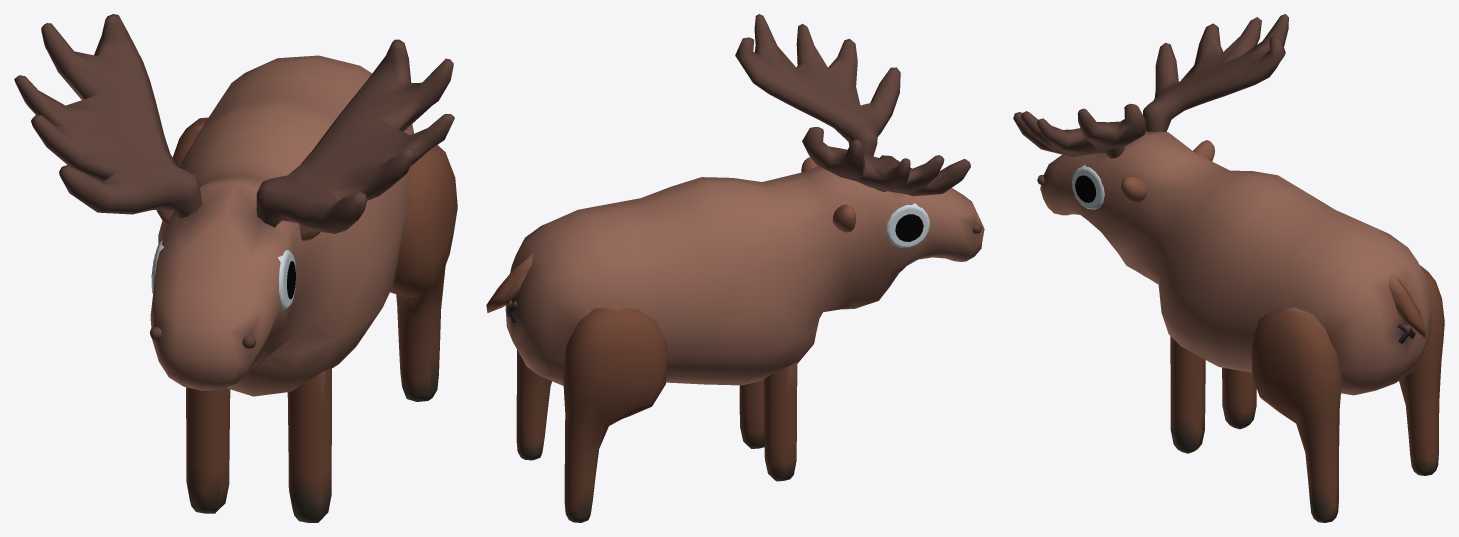
File: Moose.glb
3 renders of one model, left to right at view 1: azimuth 30°, elevation 25°; view 2: azimuth 150°, elevation 25°; view 3: azimuth 270°, elevation 25°, orthographic. The views are drawn at different scales.
Parts seen in each view (by area): view 1: 104; view 2: 104; view 3: 104.
Boxes of the visible parts, <box> form: 104: <box>14,14,457,522</box>; 104: <box>486,14,984,522</box>; 104: <box>1013,14,1444,522</box>.
Size of the model in its own units: 1.21 by 1.16 by 1.24.
